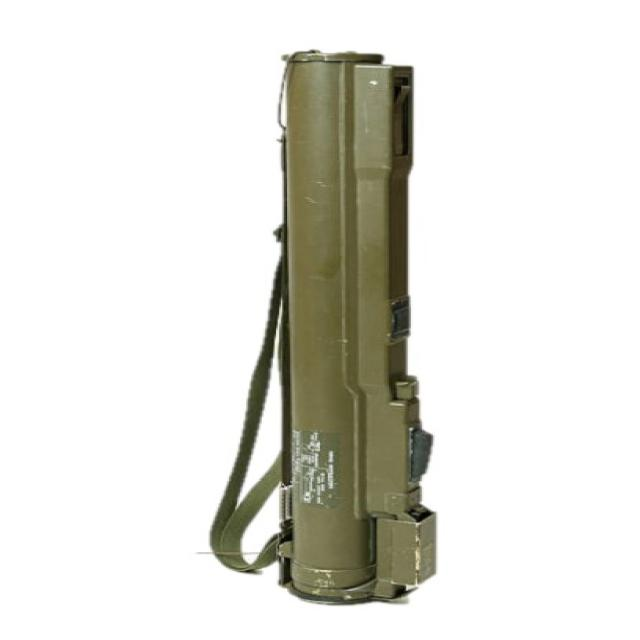bazooka: (195, 47, 460, 609)
